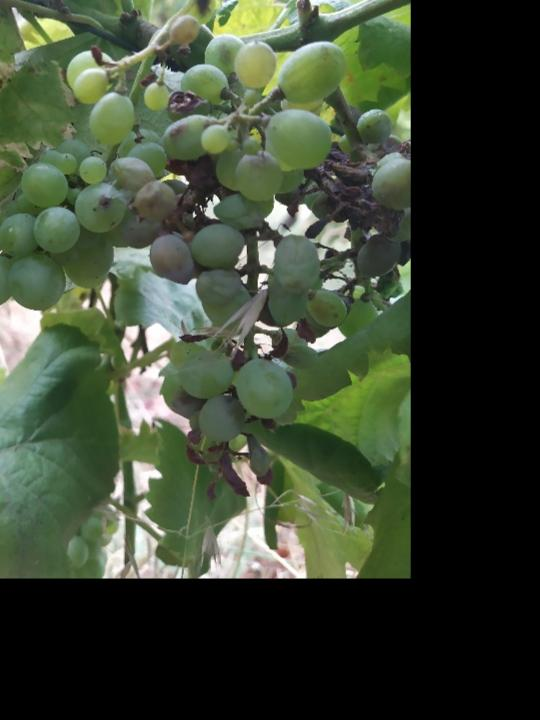grape: (63, 6, 411, 507)
